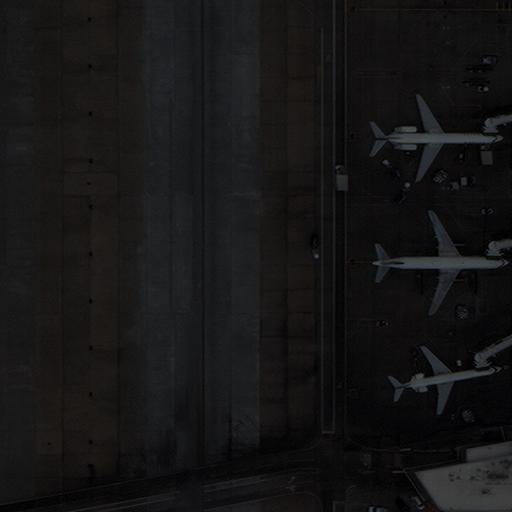Medium Civil Transport: (368, 210, 511, 315), (373, 95, 506, 180), (391, 346, 504, 414)
